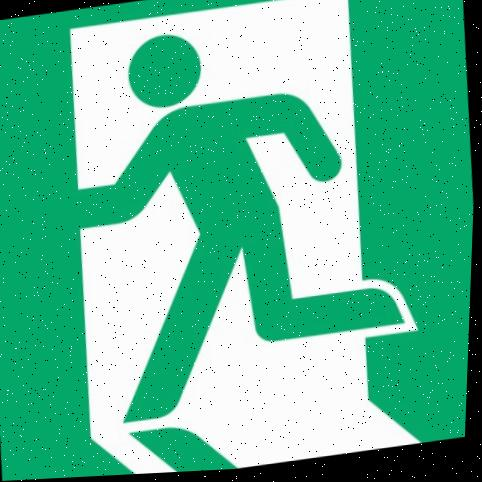emergency_exit: (1, 1, 476, 479)
